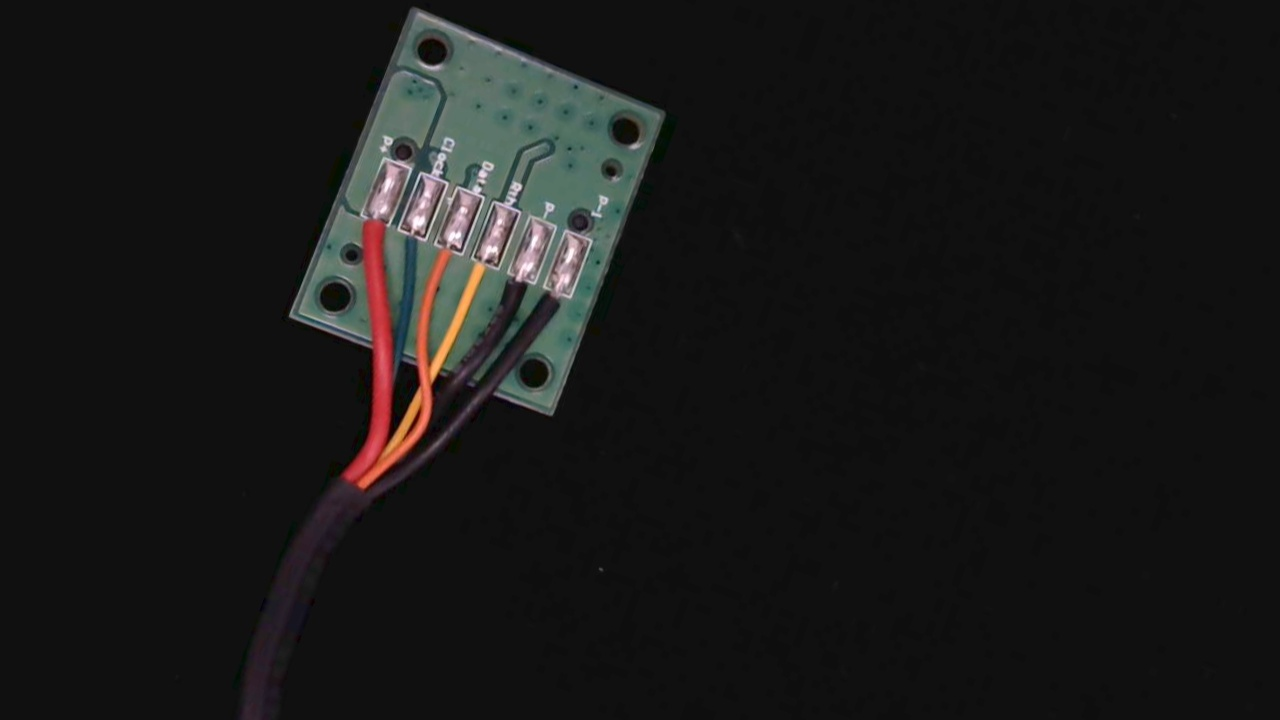Black: (488, 253, 541, 328)
Black1: (522, 268, 578, 346)
Green: (382, 212, 435, 286)
Orange: (414, 225, 467, 301)
Red: (344, 198, 397, 272)
Yellow: (455, 240, 503, 309)
